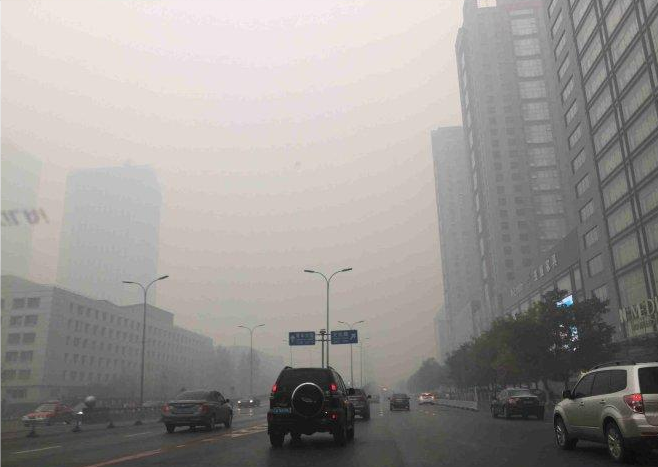car: (550, 359, 658, 464), (267, 364, 356, 447), (161, 389, 234, 433), (490, 387, 546, 423), (22, 399, 74, 427), (338, 387, 372, 421), (68, 400, 109, 422), (108, 400, 145, 419), (134, 400, 167, 415), (387, 393, 411, 410), (361, 381, 380, 402), (237, 395, 261, 407), (418, 391, 435, 405), (440, 392, 455, 400), (377, 385, 388, 394)
